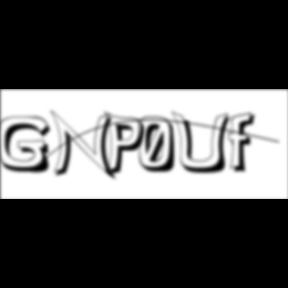0: (138, 115, 184, 174)
G: (1, 116, 58, 176)
N: (50, 109, 120, 183)
P: (104, 110, 152, 180)
U: (172, 110, 236, 176)
f: (228, 111, 262, 175)
